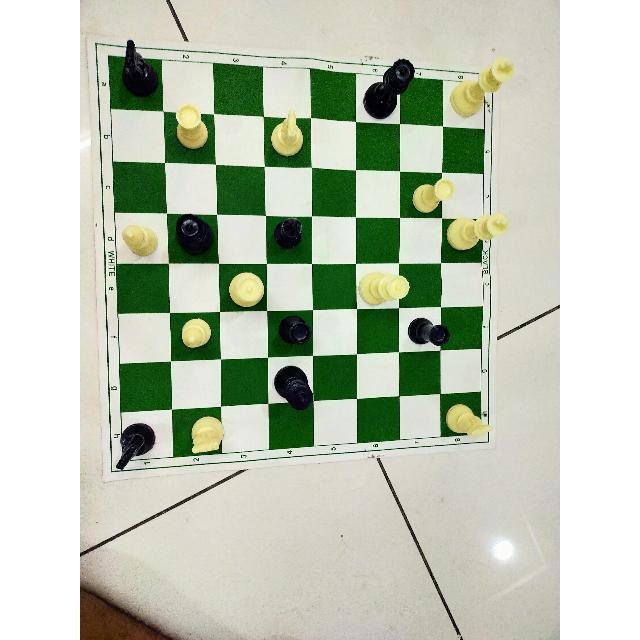black-bishop: (272, 215, 304, 251)
black-king: (272, 363, 316, 412)
black-knight: (118, 37, 159, 99), (113, 421, 156, 471)
black-queen: (361, 55, 415, 120), (173, 211, 214, 256)
black-rook: (406, 316, 451, 348), (278, 313, 314, 346)
white-bishop: (119, 222, 160, 259), (180, 316, 212, 350)
white-king: (448, 55, 518, 120), (444, 210, 510, 253)
white-knight: (444, 400, 494, 441), (270, 108, 306, 160), (189, 414, 228, 456)
white-queen: (357, 270, 411, 307), (225, 270, 267, 312)
white-rook: (411, 176, 456, 216), (174, 104, 210, 152)
